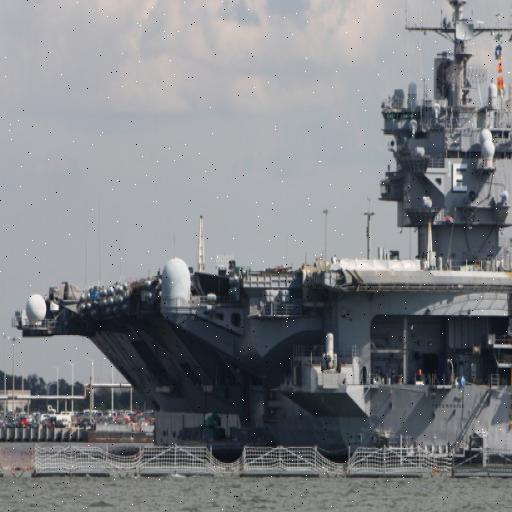Portanaves: (14, 1, 512, 444)
